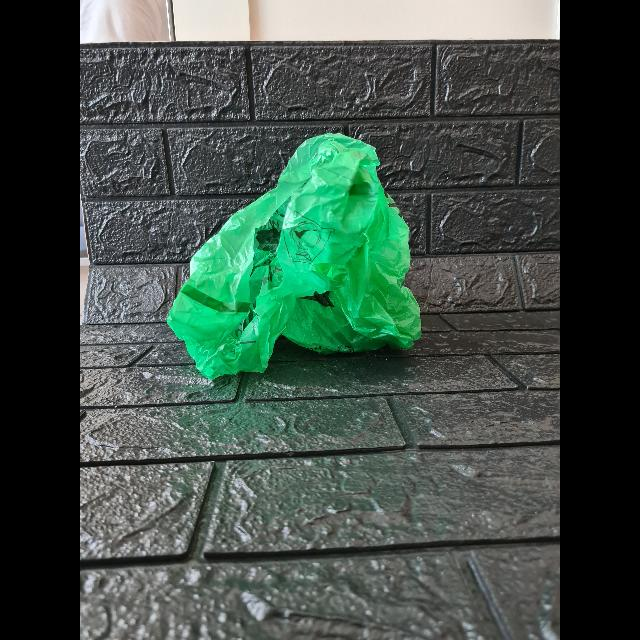plastic_bag: (172, 124, 428, 386)
